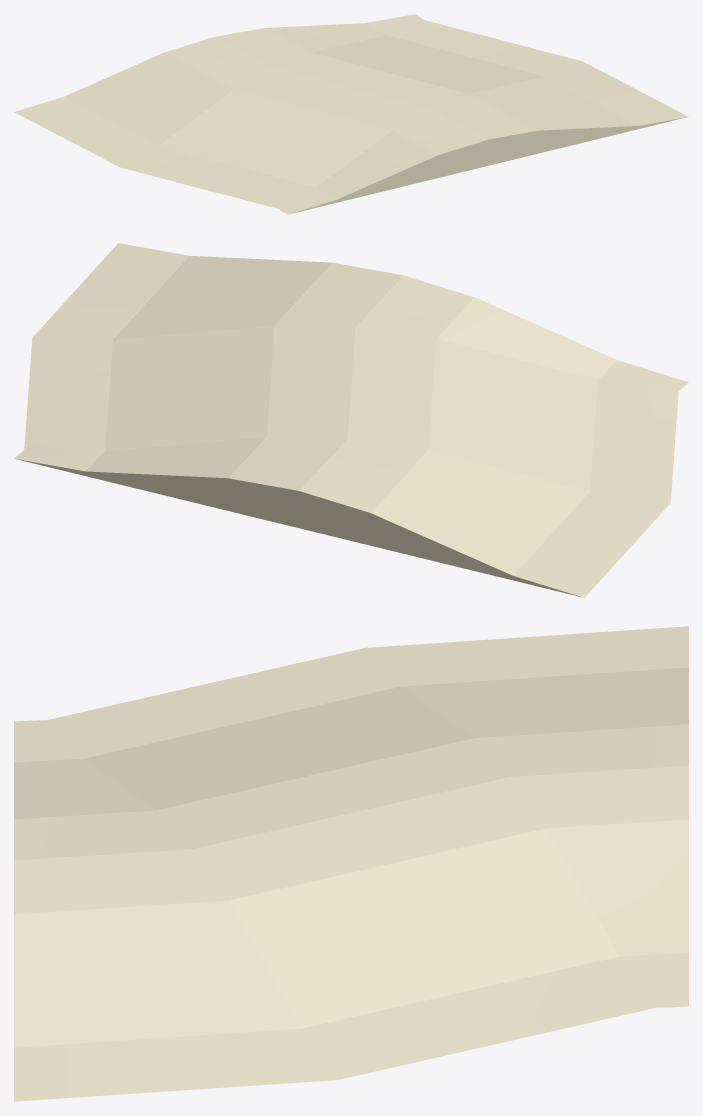
Rendered from Terrain_Sand_Incline_Esse_Both_6x10.glb.
3 renders of one model, top to bottom at view 1: azimuth 30°, elevation 25°; view 2: azimuth 150°, elevation 25°; view 3: azimuth 270°, elevation 25°, orthographic. The views are drawn at different scales.
Parts seen in each view (by area): view 1: Terrain_Sand_Incline_Esse_Both_6x10; view 2: Terrain_Sand_Incline_Esse_Both_6x10; view 3: Terrain_Sand_Incline_Esse_Both_6x10.
Boxes of the visible parts, x1,y1,x2,y2 form: Terrain_Sand_Incline_Esse_Both_6x10: (14,14,688,214); Terrain_Sand_Incline_Esse_Both_6x10: (14,243,688,597); Terrain_Sand_Incline_Esse_Both_6x10: (14,626,688,1101).
Bounding box in the file's own units: 1000 × 50 × 600.
